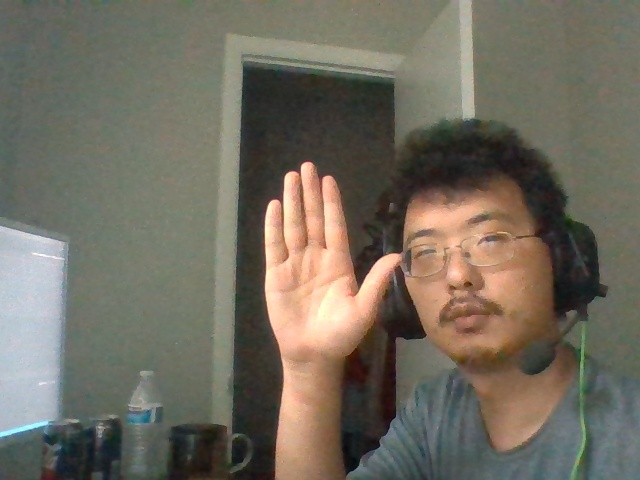ThankYou: (263, 161, 404, 363)
